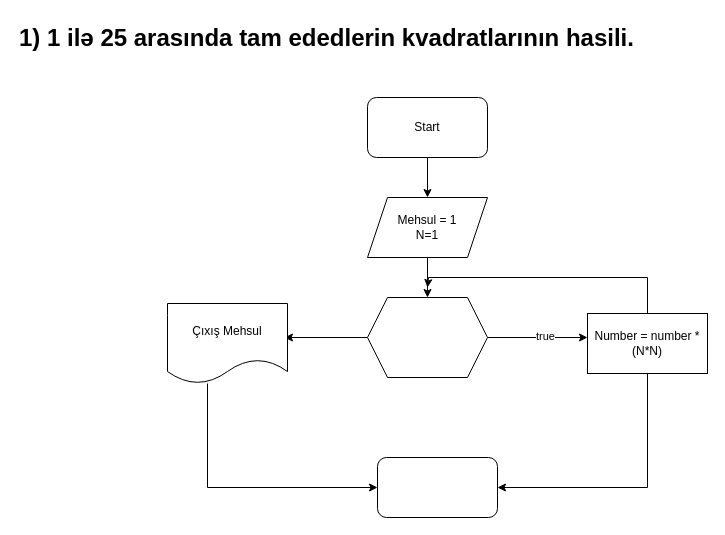
Some shapes in this 725 by 535 pixel diagram are drawn without their labels. Here are the shapes that lost their labels. From the top down, the centre of each, then its label:
At [427,337]: "i=0;i<25;i++".
At [437,487]: "End".
